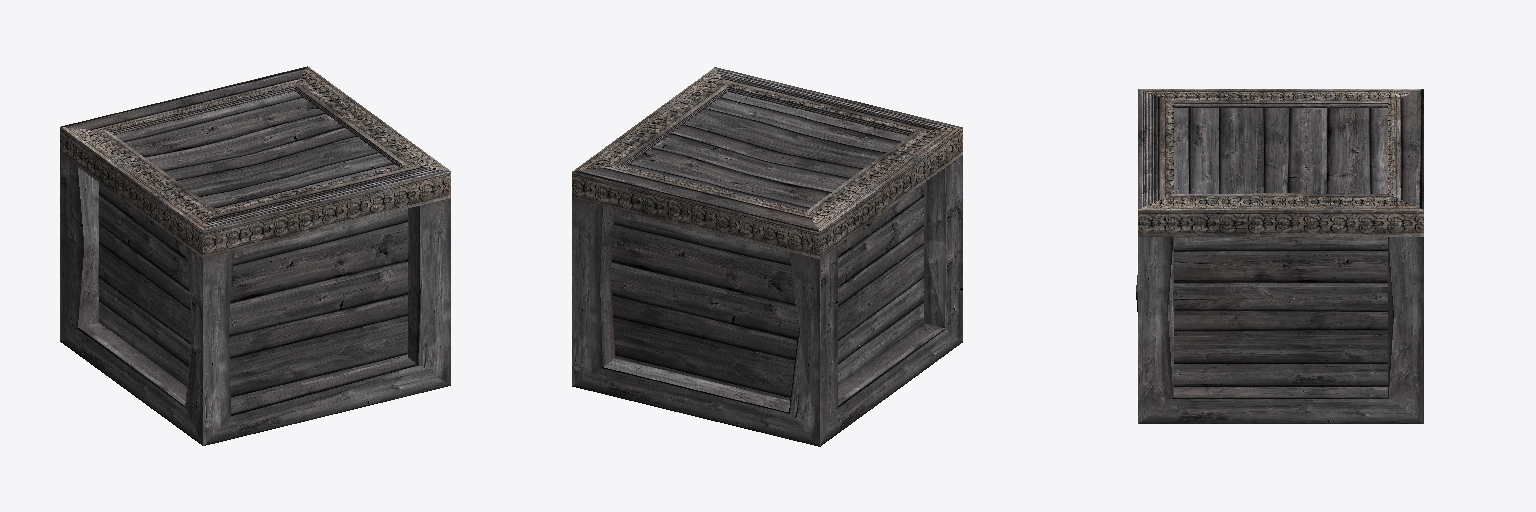
3 renders of one model, left to right at view 1: azimuth 30°, elevation 25°; view 2: azimuth 150°, elevation 25°; view 3: azimuth 270°, elevation 25°, orthographic.
Visible parts, largest first — view 1: Default_Layer; view 2: Default_Layer; view 3: Default_Layer.
Part boxes in pixels (x1,y1,x2,y2): Default_Layer: (60, 66, 450, 445); Default_Layer: (572, 67, 962, 446); Default_Layer: (1136, 89, 1423, 423).
Bounding box in the file's own units: 2.91 × 2.42 × 2.93.
1 materials, 1 textured.